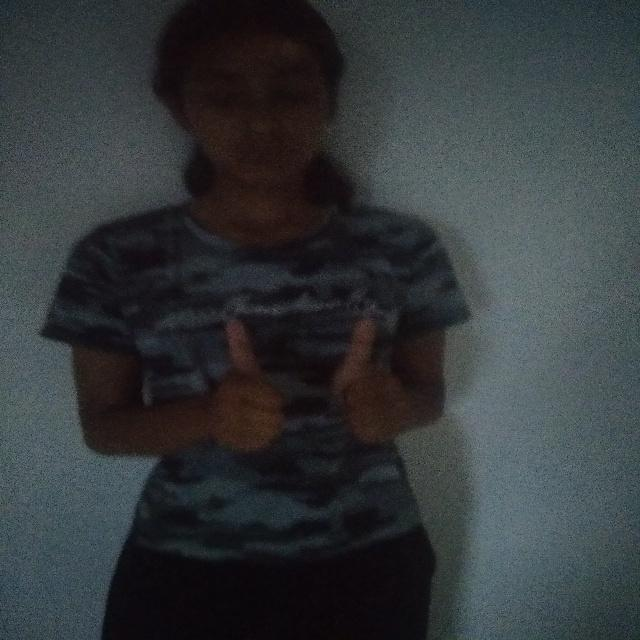Thumbs Up: (191, 313, 299, 462), (327, 317, 414, 455)
